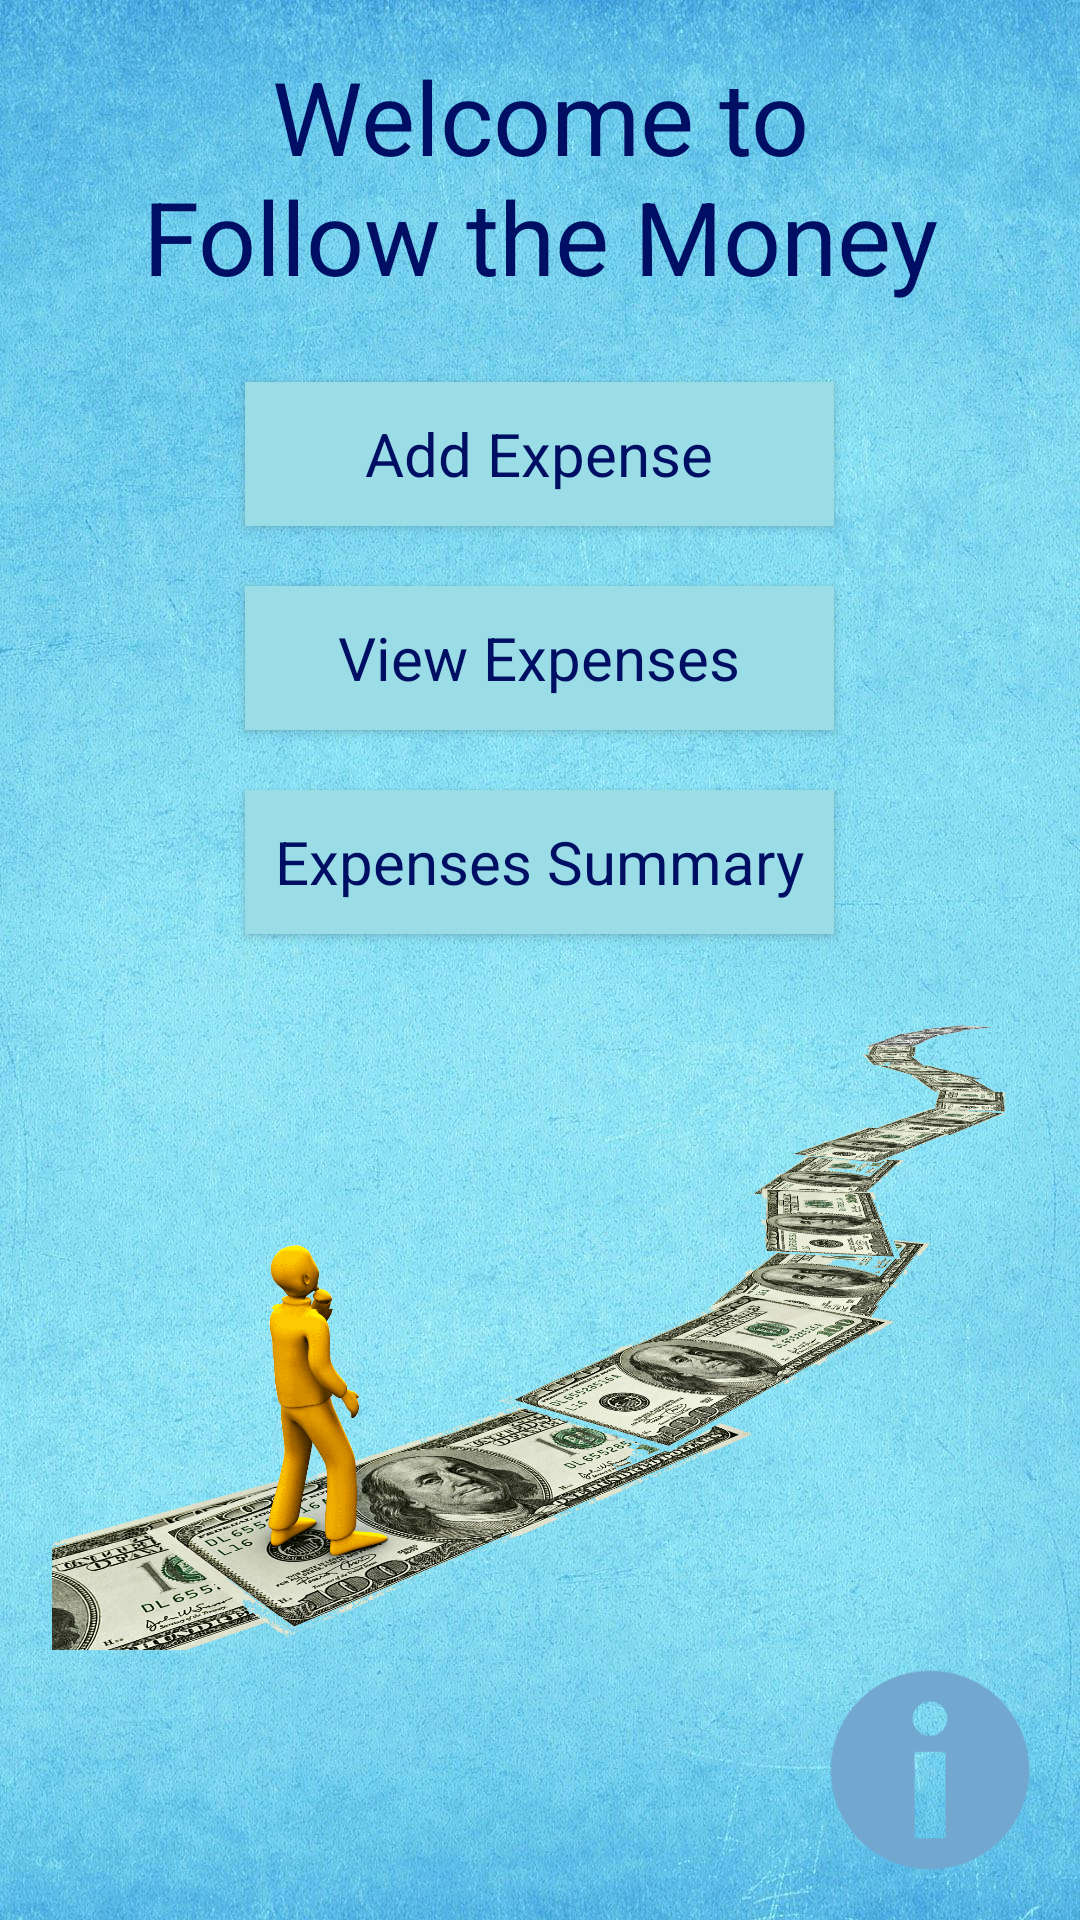

Where to tap for icons on this 1080w x 1920h app screen, as point (x, y):
Info page: point (930, 1770)
